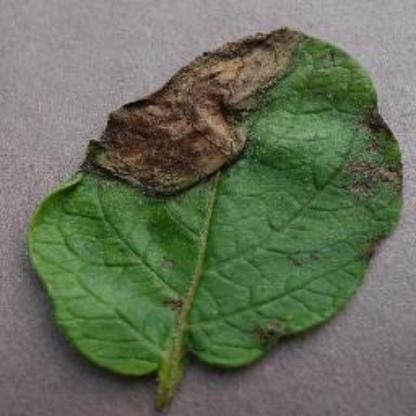Late-Blight: (32, 32, 406, 380)
